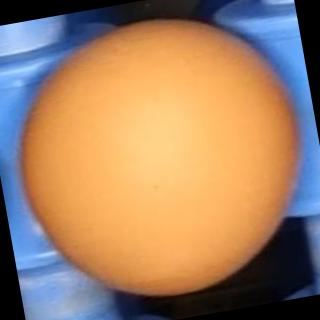Telur: (1, 1, 320, 319)
